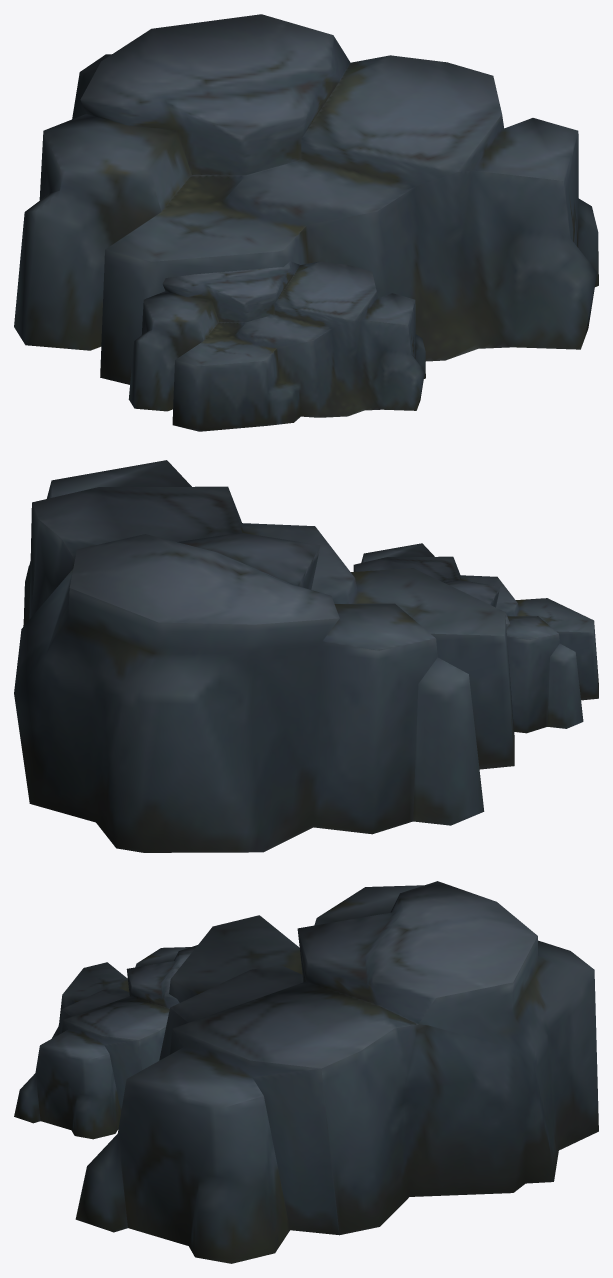
File: Area_11_11.fbx
The picture shows the model from 3 angles, top to bottom: view 1: azimuth 30°, elevation 25°; view 2: azimuth 150°, elevation 25°; view 3: azimuth 270°, elevation 25°; orthographic projection. The views are drawn at different scales.
Visible parts, largest first — view 1: Area_11_11; view 2: Area_11_11; view 3: Area_11_11.
Part boxes in pixels (left/top/right/bottom): Area_11_11: left=14, top=14, right=598, bottom=431; Area_11_11: left=14, top=460, right=598, bottom=852; Area_11_11: left=14, top=881, right=598, bottom=1263.
Bounding box in the file's own units: 1370 × 506 × 1404.
